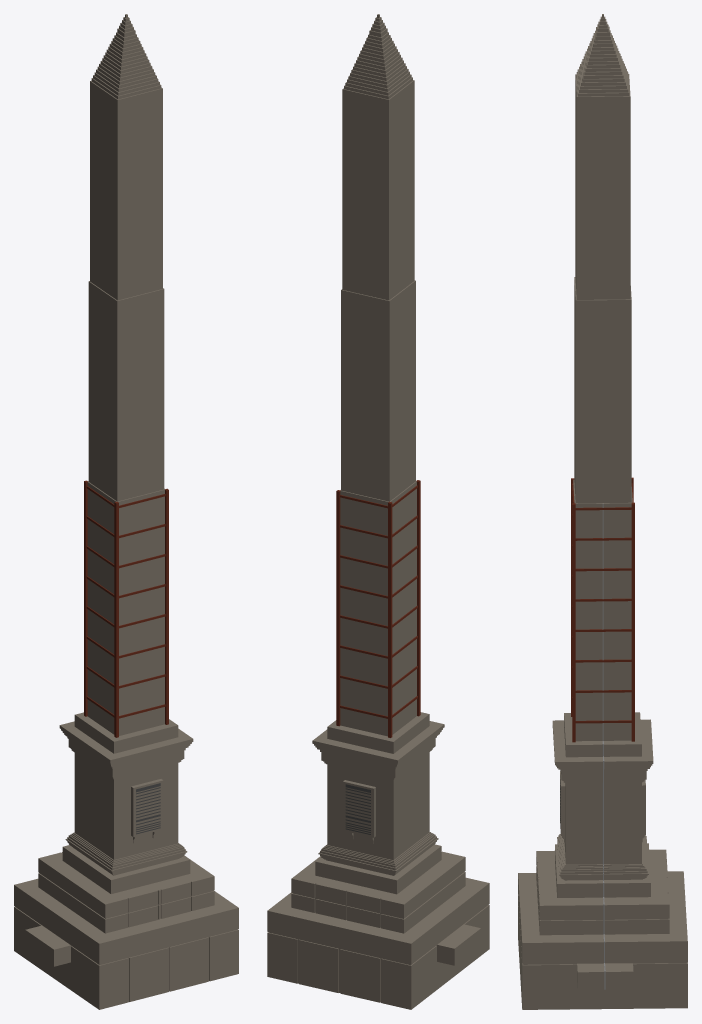
The model's file is beaconanimate.gltf.
3 renders of one model, left to right at view 1: azimuth 30°, elevation 25°; view 2: azimuth 150°, elevation 25°; view 3: azimuth 270°, elevation 25°, orthographic.
Visible parts, largest first — view 1: Beacon-3; view 2: Beacon-3; view 3: Beacon-3.
Part boxes in pixels (x1,y1,x2,y2): Beacon-3: (14, 14, 238, 1009); Beacon-3: (267, 14, 489, 1009); Beacon-3: (518, 14, 687, 1009).
Size of the model in its own units: 18.56 by 94.6 by 15.16.
4 materials, 4 textured.
